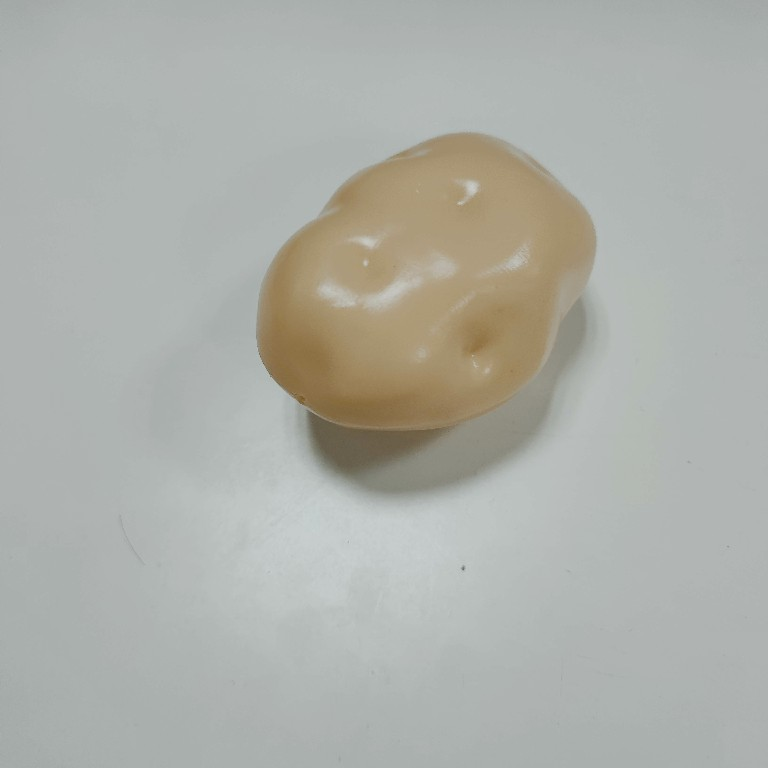fruit_potato: (238, 117, 603, 440)
